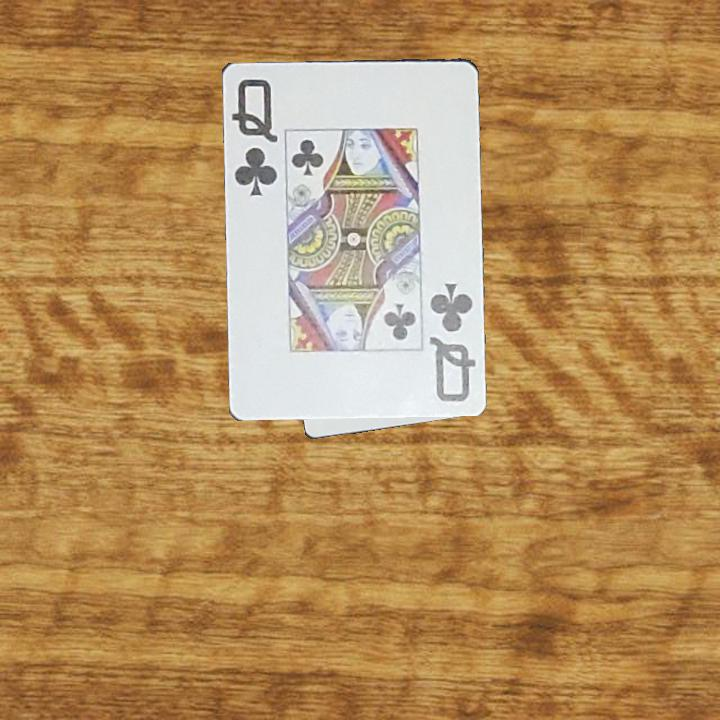Qc: (425, 278, 478, 405), (227, 74, 280, 199)
